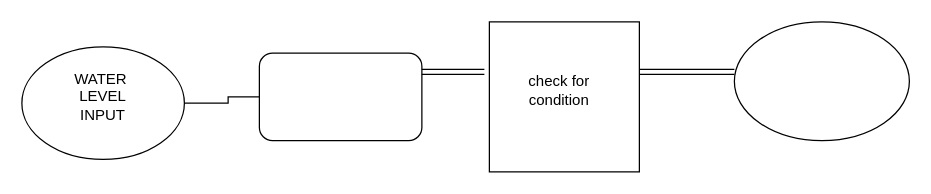
Some shapes in this 931 by 194 pixel diagram are drawn without their labels. The shapes that lost their labels are listed below. From the top down, each one's box as (x1, y1, x2, y2) in pixels, then its label:
(258, 52, 422, 141): atMega 328
(733, 21, 909, 141): water flow based on codition
